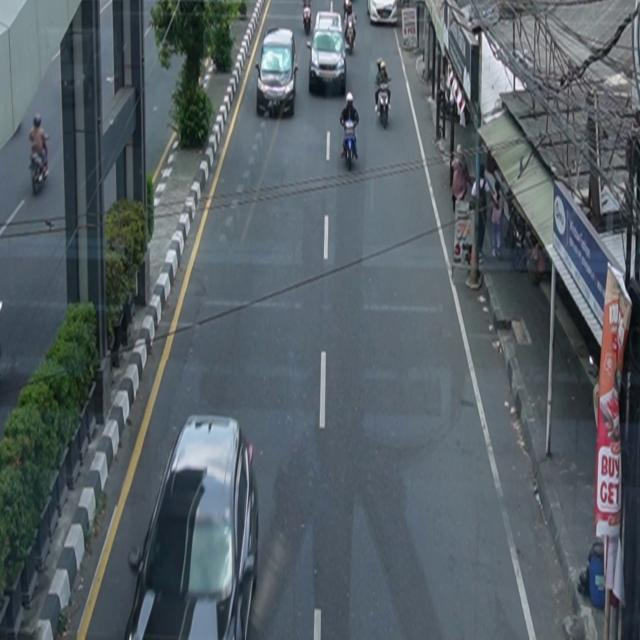car: (124, 414, 260, 640), (256, 28, 299, 118), (367, 1, 398, 26)
